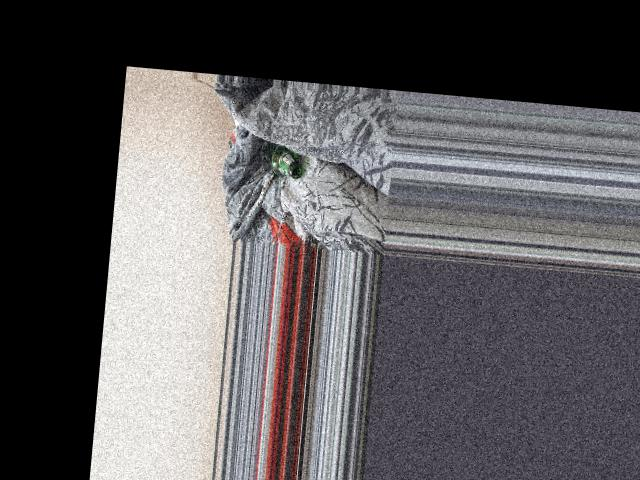beer: (263, 144, 304, 178)
